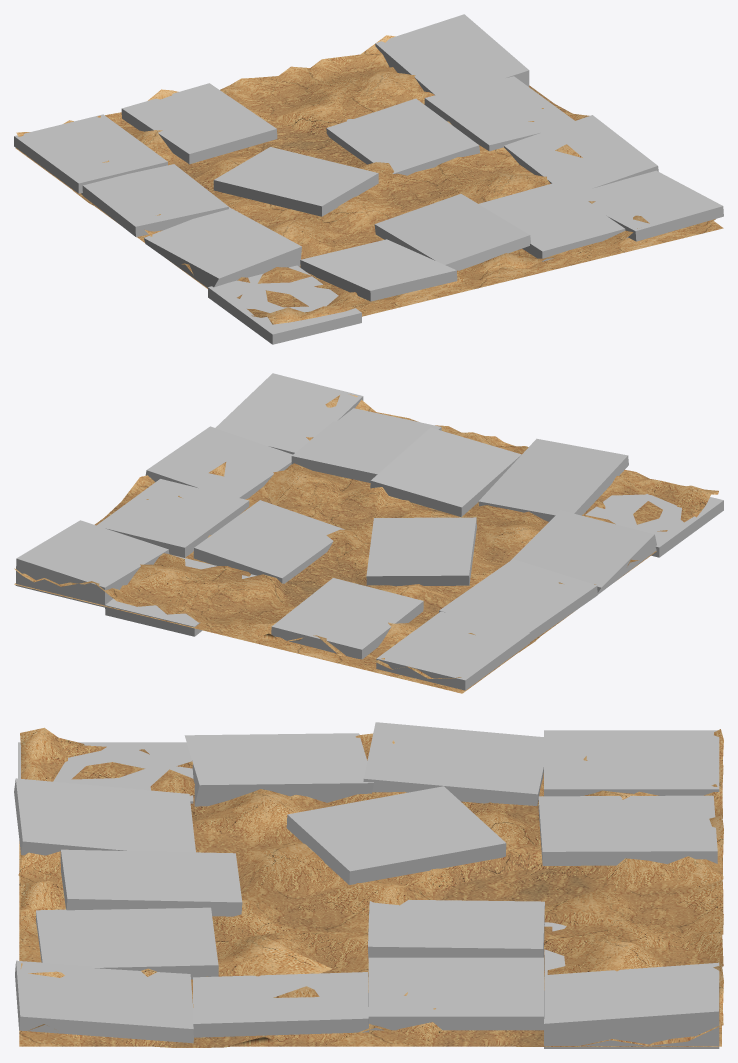
File: Floor_Tiles_4m_Broken.fbx
3 renders of one model, top to bottom at view 1: azimuth 30°, elevation 25°; view 2: azimuth 150°, elevation 25°; view 3: azimuth 270°, elevation 25°, orthographic. The views are drawn at different scales.
Parts seen in each view (by area): view 1: Geom_tiles_4m, Floor_Tiles_4m_Broken, Geom_Sand_4m; view 2: Geom_tiles_4m, Floor_Tiles_4m_Broken, Geom_Sand_4m; view 3: Geom_tiles_4m, Floor_Tiles_4m_Broken, Geom_Sand_4m.
Boxes of the visible parts, left/top/right/bottom form: Geom_tiles_4m: left=14, top=14, right=723, bottom=344; Floor_Tiles_4m_Broken: left=16, top=35, right=715, bottom=324; Geom_Sand_4m: left=15, top=86, right=723, bottom=316; Geom_tiles_4m: left=15, top=373, right=723, bottom=690; Floor_Tiles_4m_Broken: left=14, top=394, right=718, bottom=678; Geom_Sand_4m: left=14, top=475, right=656, bottom=693; Geom_tiles_4m: left=14, top=722, right=719, bottom=1048; Floor_Tiles_4m_Broken: left=18, top=727, right=723, bottom=1047; Geom_Sand_4m: left=19, top=841, right=721, bottom=1046.
Bounding box in the file's own units: 407 × 29.82 × 404.
